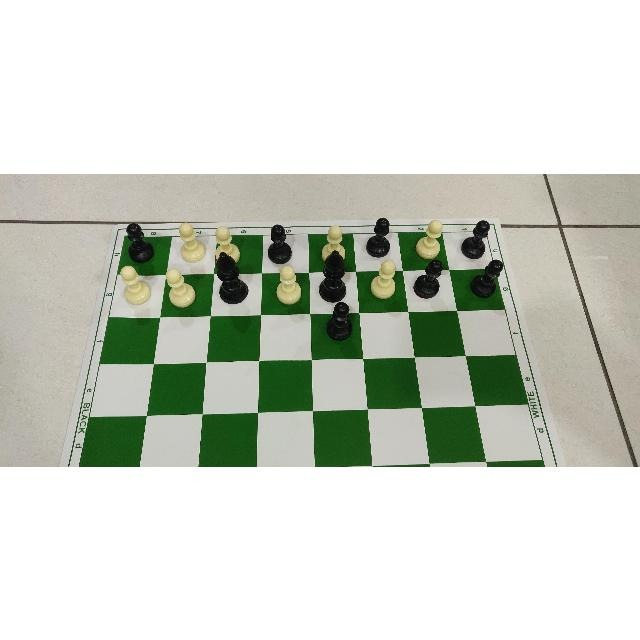black-bishop: (213, 249, 249, 304), (317, 247, 349, 303)
black-pawn: (411, 256, 446, 300), (264, 221, 300, 263), (469, 257, 505, 299), (459, 216, 491, 259), (123, 222, 155, 262), (362, 216, 392, 258), (324, 301, 354, 341)
white-pawn: (413, 216, 445, 260), (117, 264, 151, 305), (162, 266, 195, 308), (367, 259, 399, 301), (175, 221, 206, 263), (317, 223, 348, 264), (272, 265, 303, 305), (214, 223, 242, 265)
